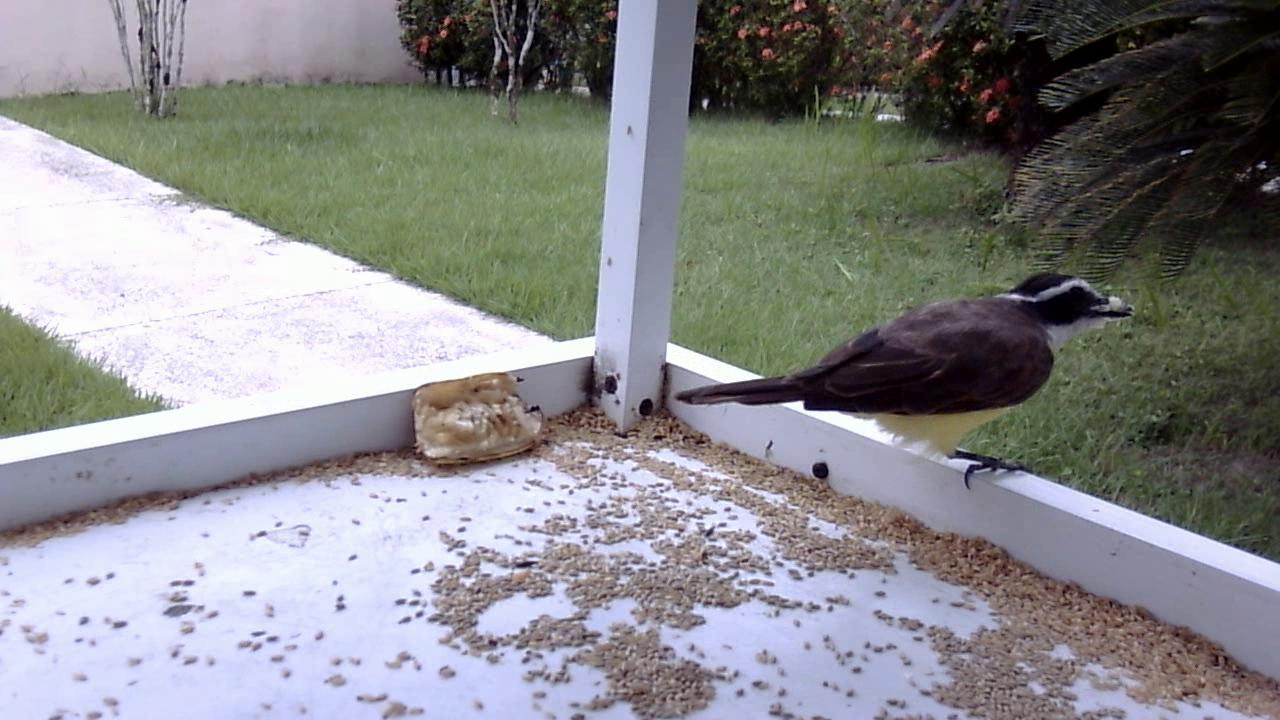bem_te_vi: (652, 247, 1144, 525)
